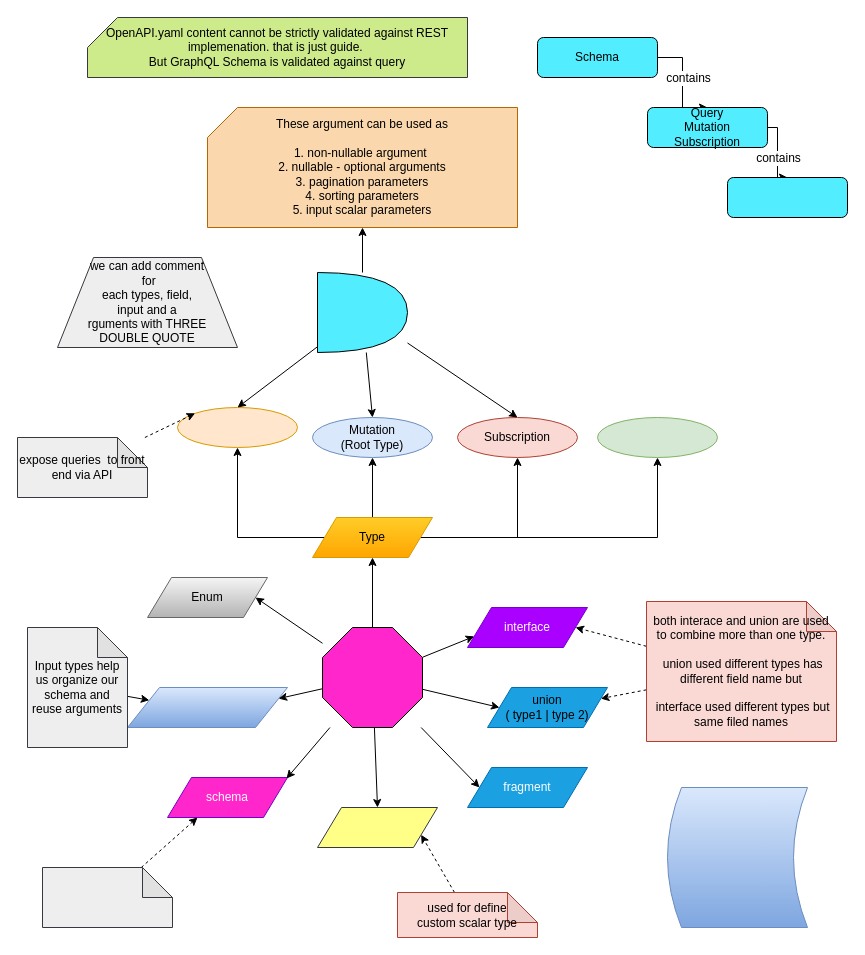
This 865x955 diagram has some shape labels left out. The shapes that lost their labels are listed below. From the top down, each one's box as (x1, y1, x2, y2) in pixels, then its label:
(726, 176, 848, 218): custom domain types
(316, 272, 408, 352): supports arguments
(176, 406, 298, 448): Query (Root Type)
(596, 416, 718, 458): Domain Type
(322, 626, 422, 728): GraphQL Schema Elements
(126, 686, 288, 728): Input ( comes from request mapping )
(316, 806, 438, 848): Scalar
(666, 786, 808, 928): support 5 built-in scalar types 1. int 2. Float 3. String 4. Boolean 5. ID
(42, 866, 172, 928): expose Schema itself to frontend
